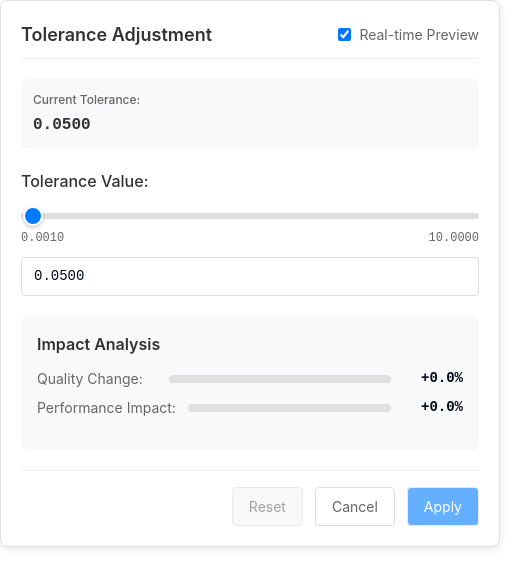
it: ToleranceAdjustmentUI › Action Buttons › should disable buttons during apply operation
This screenshot has width=518, height=567.
// Change tolerance
Replace the text in the number field showing "0.0500" with "0.075" at (250, 276), box [21,257,479,296]
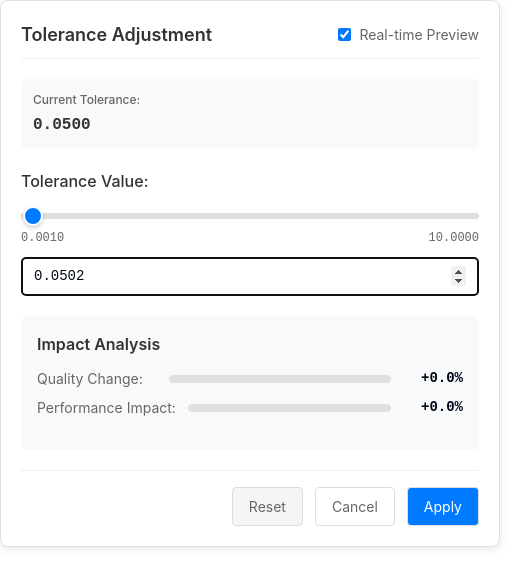
Click the button "Apply" at (443, 506), box [407,487,479,526]
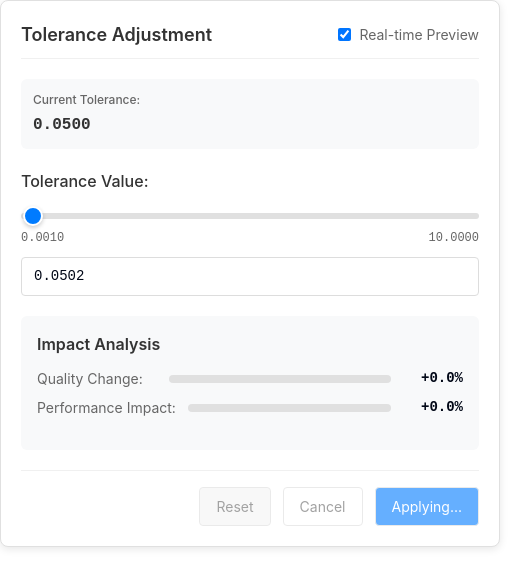
expect the button "Applying..." is disabled: met, box [374,487,479,526]
expect the button "Cancel" is disabled: met, box [283,487,362,526]
expect the button "Reset" is disabled: met, box [200,487,271,526]
